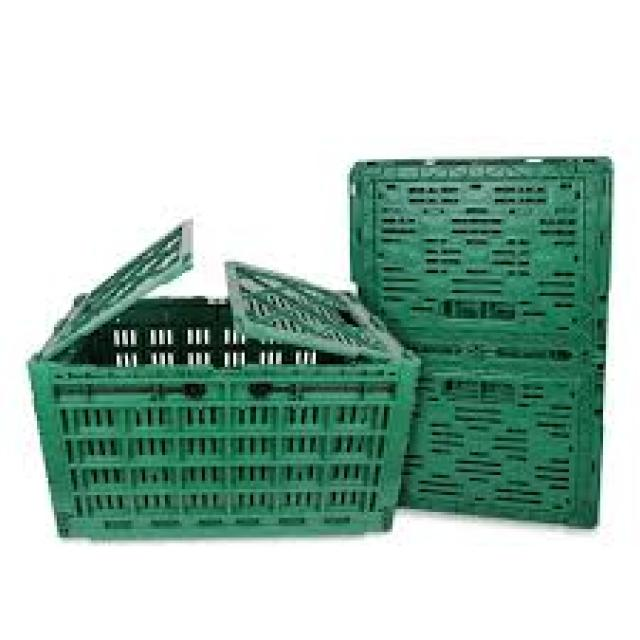basket: (27, 156, 623, 542), (24, 215, 426, 543), (401, 348, 616, 528)
